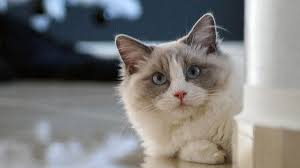Gato: (109, 19, 248, 165)
